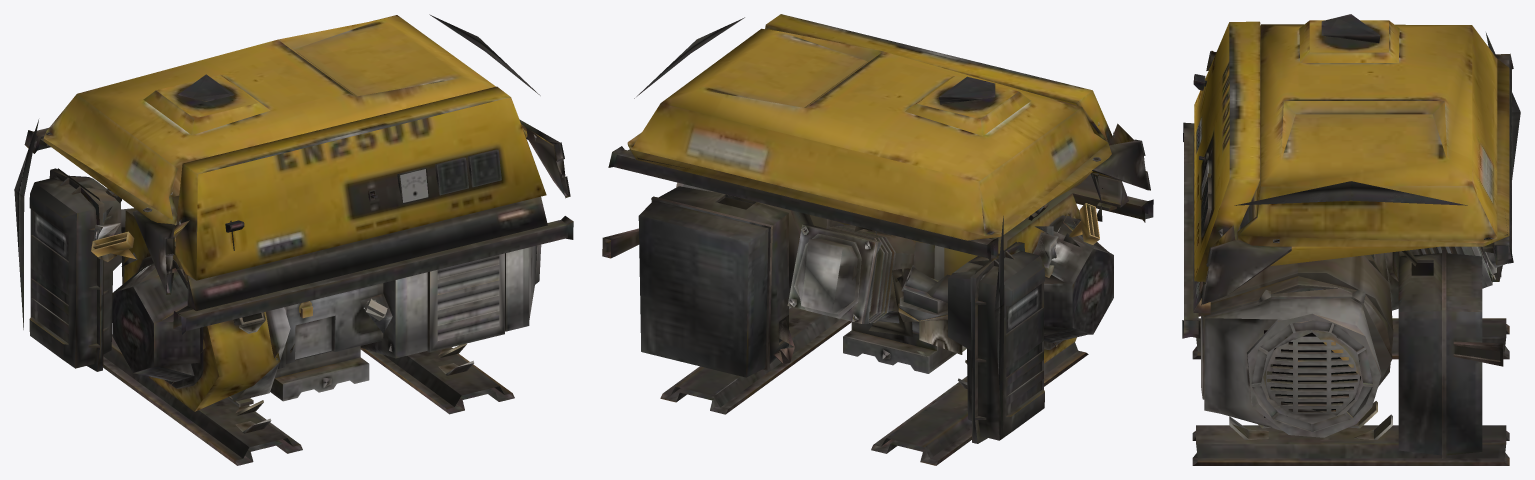
The model's file is portable_generator.glb.
The picture shows the model from 3 angles, left to right: view 1: azimuth 30°, elevation 25°; view 2: azimuth 150°, elevation 25°; view 3: azimuth 270°, elevation 25°; orthographic projection. The views are drawn at different scales.
Parts seen in each view (by area): view 1: portable_generator; view 2: portable_generator; view 3: portable_generator.
Part boxes in pixels (x1,y1,x2,y2): portable_generator: [14, 14, 573, 465]; portable_generator: [602, 14, 1153, 465]; portable_generator: [1182, 14, 1520, 465].
Size of the model in its own units: 0.8086 by 0.5747 by 0.5497.
Materials: 2 (2 with a texture image).
